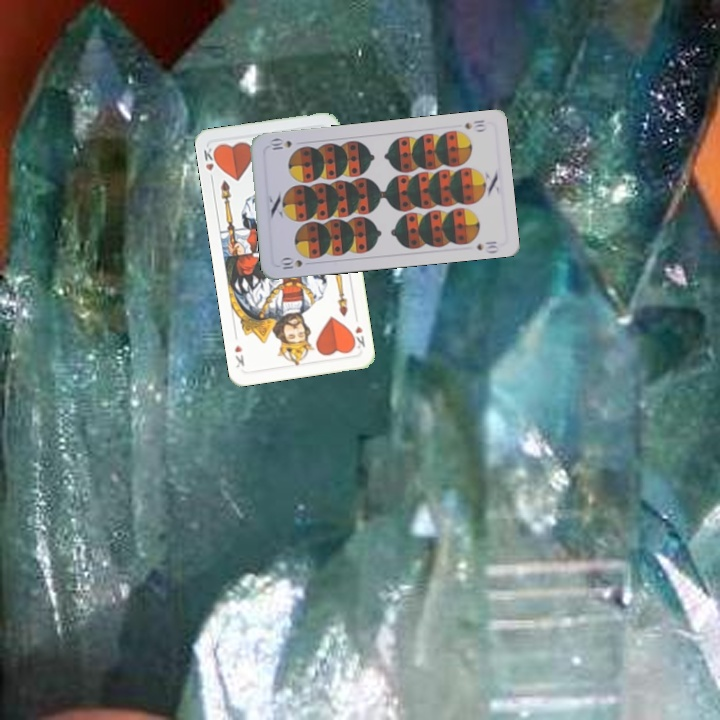HK: (200, 143, 221, 184), (347, 322, 367, 351)
S10: (276, 254, 305, 272), (461, 116, 489, 133)
